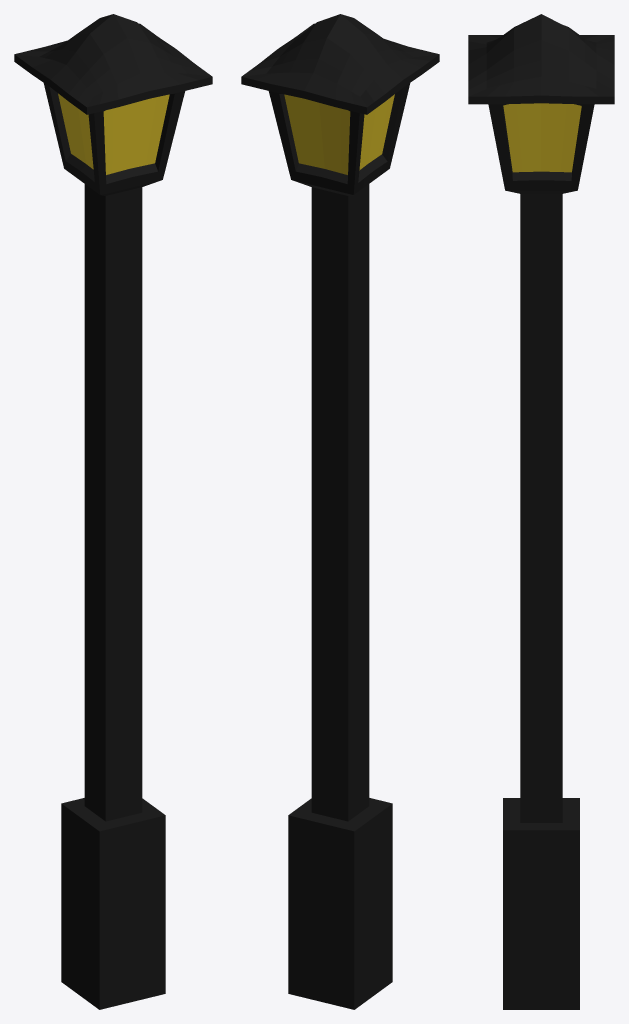
The model's file is Lantern.fbx.
3 renders of one model, left to right at view 1: azimuth 30°, elevation 25°; view 2: azimuth 150°, elevation 25°; view 3: azimuth 270°, elevation 25°, orthographic.
Parts seen in each view (by area): view 1: Cube; view 2: Cube; view 3: Cube.
Boxes of the visible parts, box(x1,y1,x2,y2) form: Cube: box(14, 14, 212, 1009); Cube: box(241, 14, 439, 1009); Cube: box(468, 14, 614, 1009).
Bounding box in the file's own units: 103 × 764 × 103.
